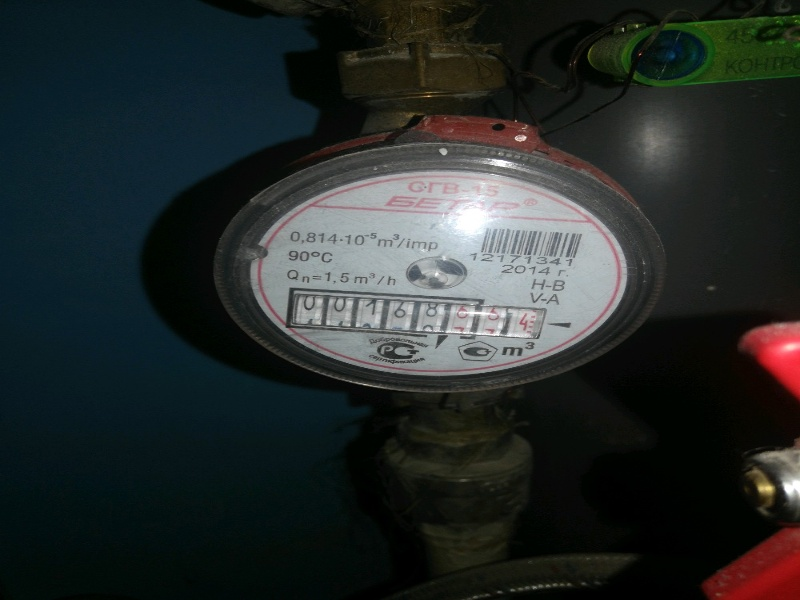meter: (292, 293, 535, 332)
